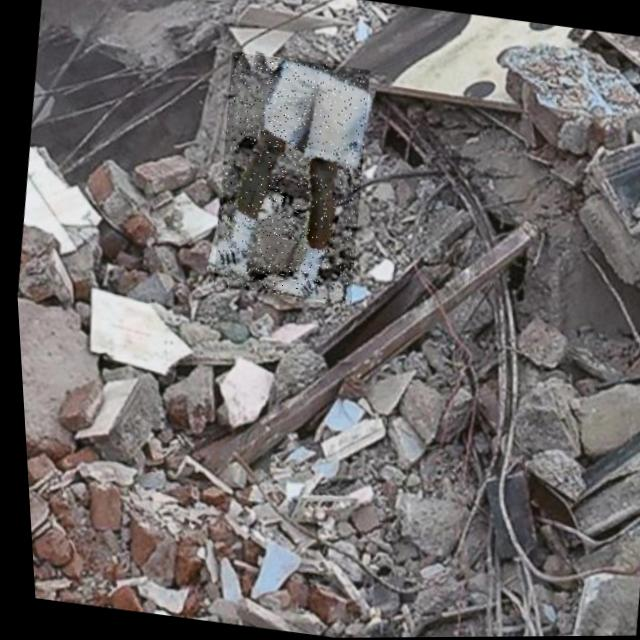Person in Rubble: (198, 51, 380, 305)
